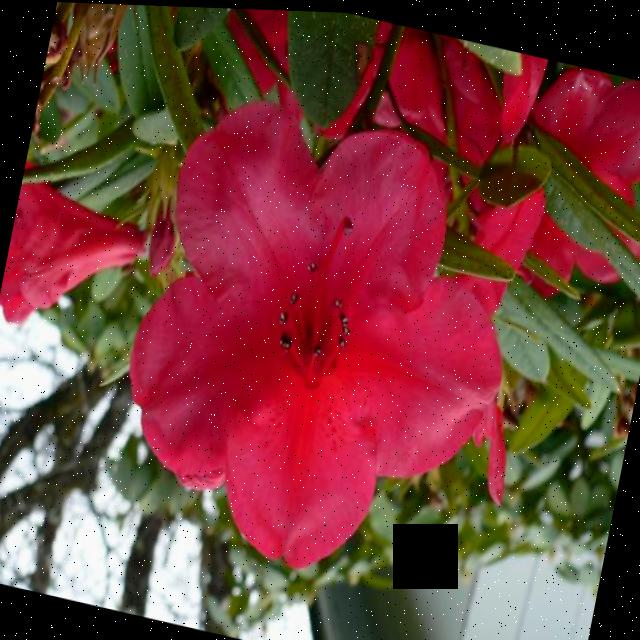azalea: (107, 79, 516, 582), (0, 154, 161, 349)
